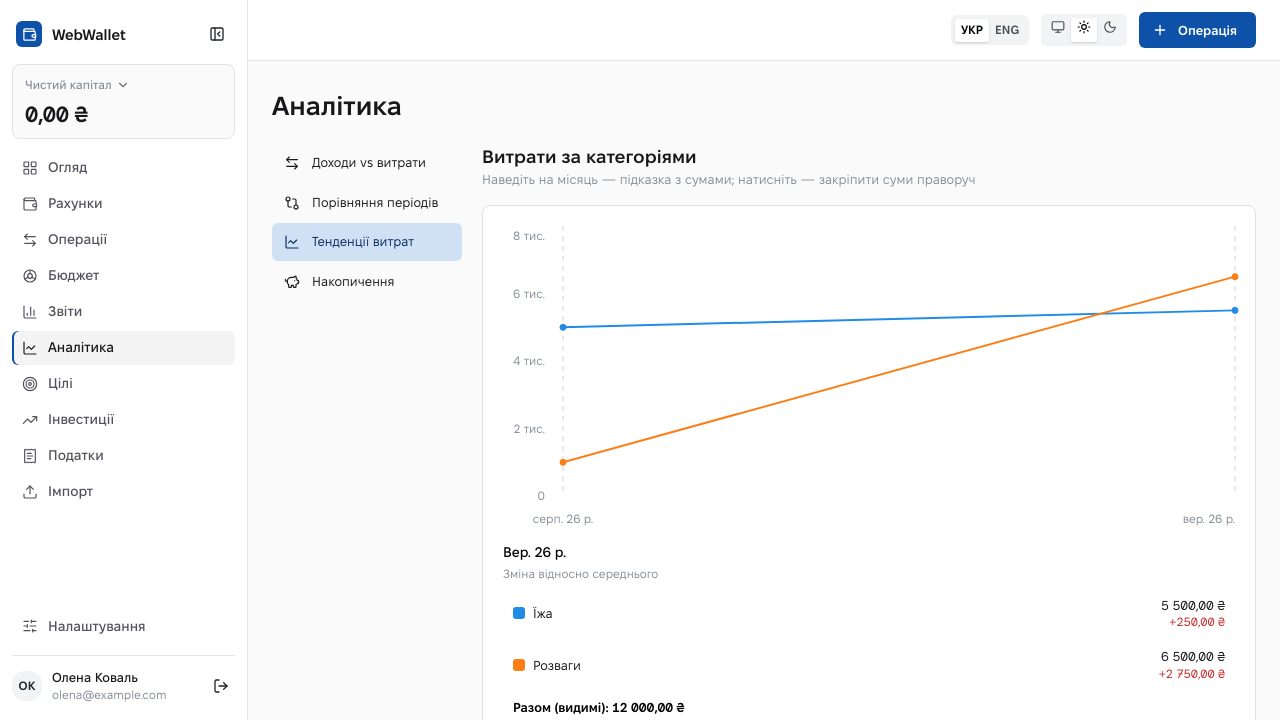
Scenario: shows spending trends with anomalies and toggles the lines
Click the button with aria-label "Показати або сховати Розваги".
click(557, 665)  # box [503,640,1235,690]
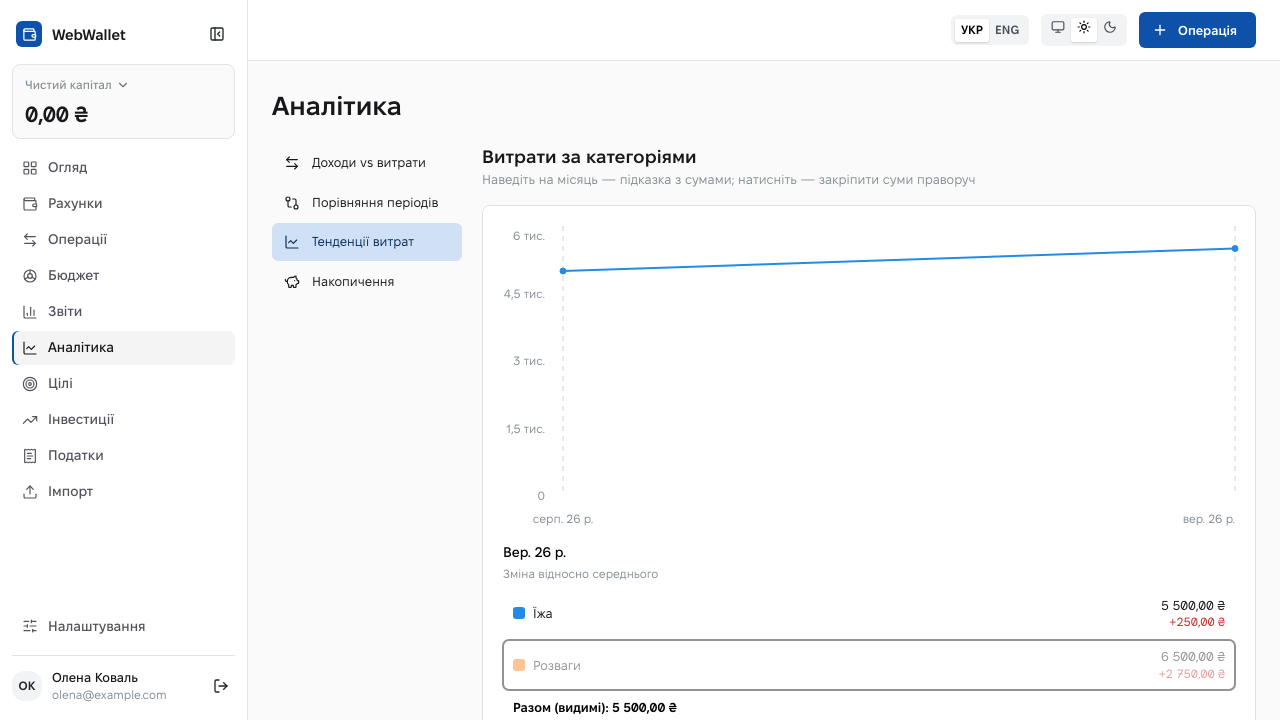
Result: the text "Разом (видимі): 5 500,00 ₴" is shown at [513,700,677,714]
